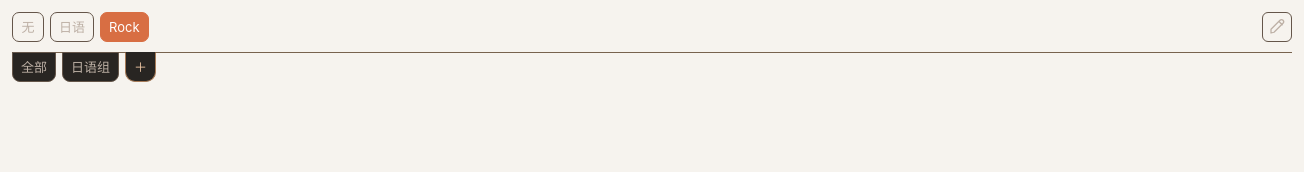
Test: keeps group definitions when renaming and always exposes switches for editing with failed drafts retained
Later steps or results of the test are not shown.
Click the button named "编辑标签和标签组".
click(1277, 27)  # box [1262, 12, 1292, 42]
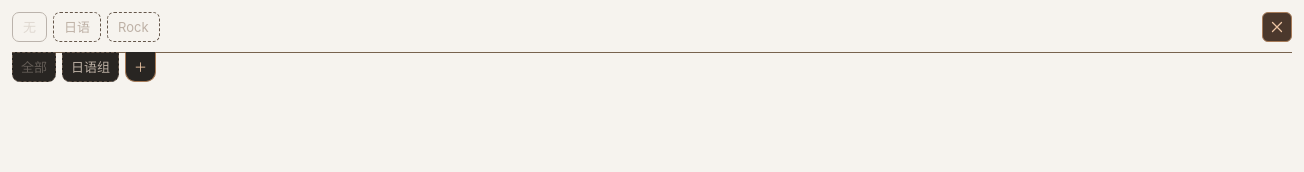
Click the button with aria-label "重命名标签组 日语组".
click(90, 67)  # box [63, 53, 118, 81]
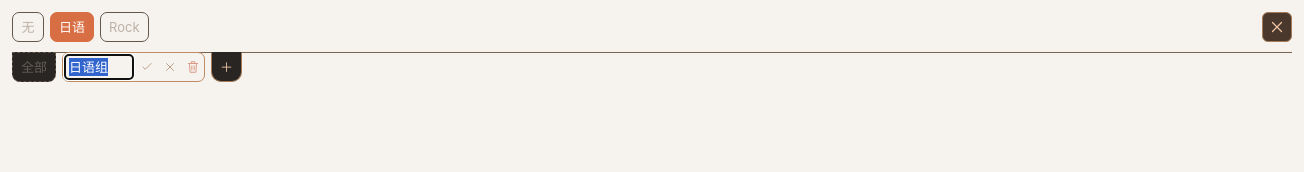
Replace the text in the field named "标签组名称" with "日文组" at (99, 67), box [65, 55, 133, 79]
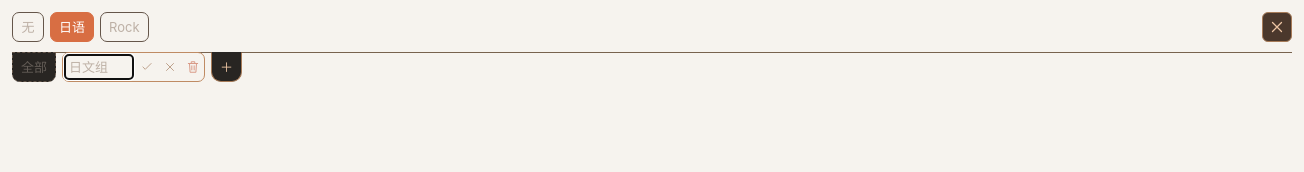
Click the button named "保存标签组".
click(145, 67)  # box [134, 55, 156, 79]
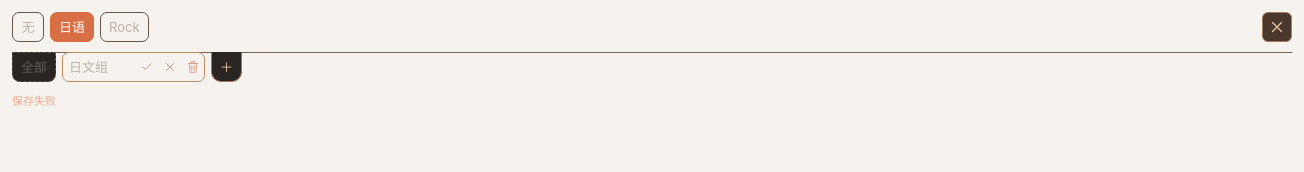
Now the element named "标签组开关" is shown, box [12, 12, 1292, 42]
Now the message reads "保存失败", box [12, 94, 56, 108]
